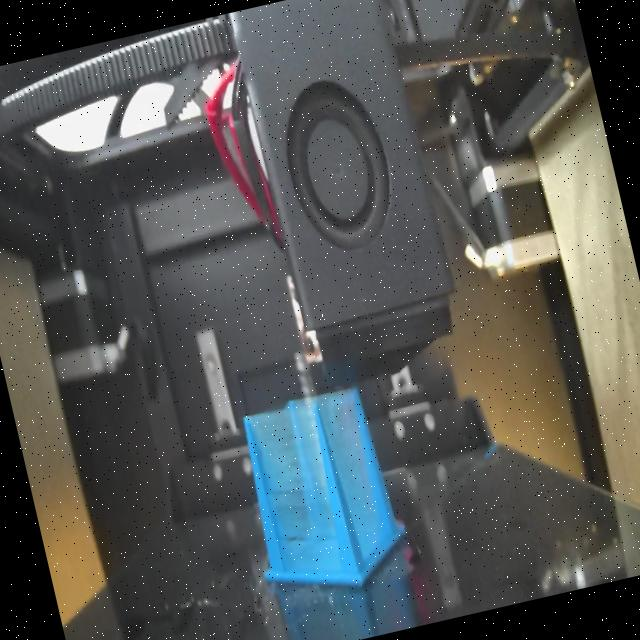stringing: (242, 400, 351, 588), (320, 388, 394, 571)
